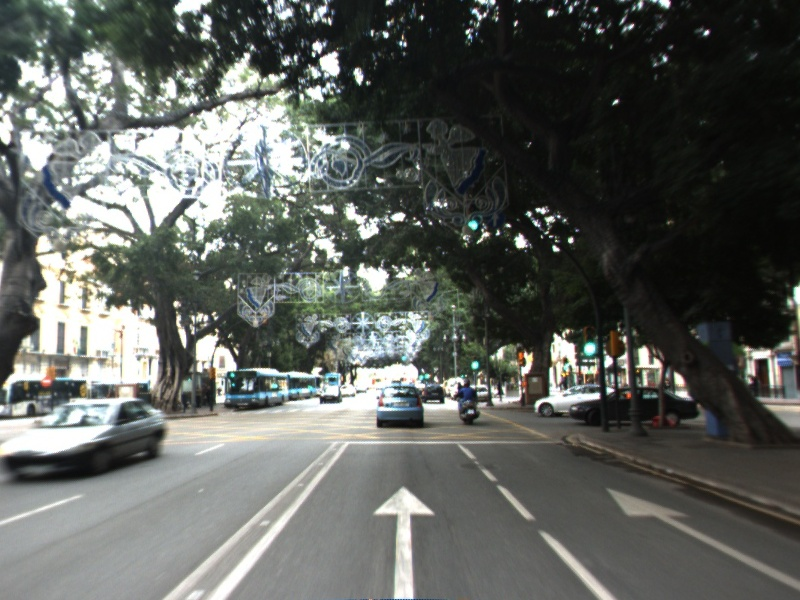STRAIGHT: (603, 486, 800, 590), (369, 482, 439, 600)
